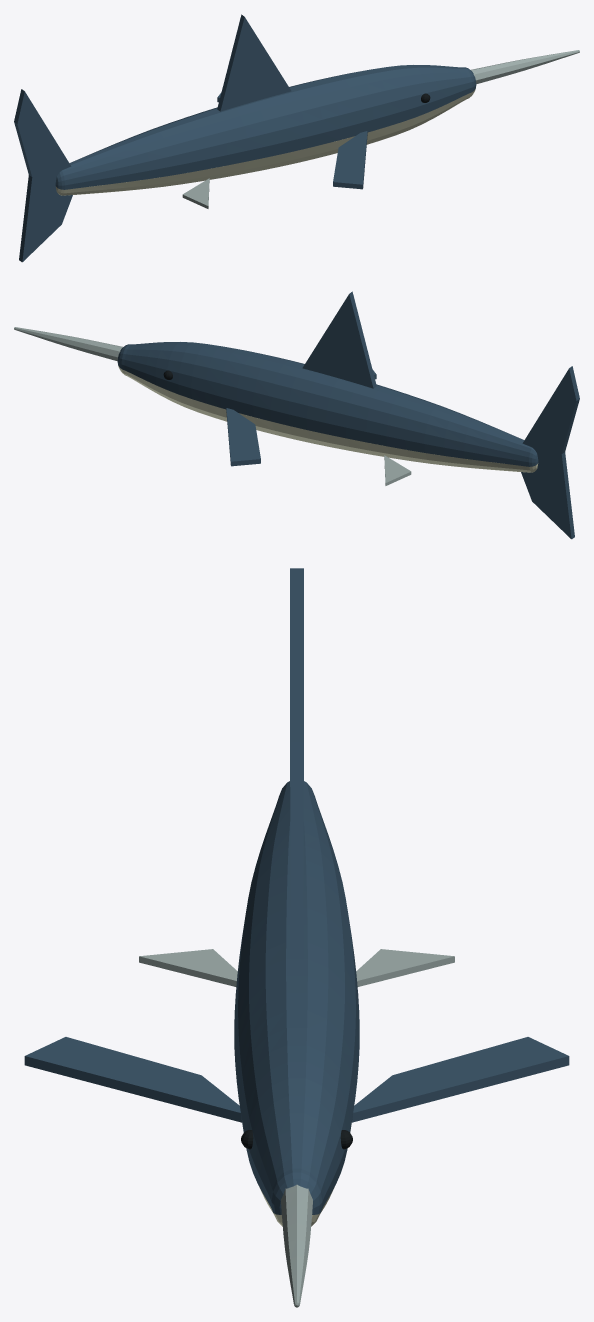
The model's file is blue-marlin.dae.
The picture shows the model from 3 angles, top to bottom: view 1: azimuth 30°, elevation 25°; view 2: azimuth 150°, elevation 25°; view 3: azimuth 270°, elevation 25°; orthographic projection. The views are drawn at different scales.
Parts seen in each view (by area): view 1: part3-node, part2-node, part0-node; view 2: part3-node, part2-node, part0-node; view 3: part3-node, part0-node.
Boxes of the visible parts, x1=… form: part3-node: x1=14, y1=14, x2=476, y2=262; part2-node: x1=55, y1=88, x2=475, y2=195; part0-node: x1=182, y1=50, x2=579, y2=208; part3-node: x1=117, y1=291, x2=579, y2=539; part2-node: x1=118, y1=365, x2=538, y2=472; part0-node: x1=14, y1=327, x2=411, y2=485; part3-node: x1=24, y1=568, x2=569, y2=1214; part0-node: x1=139, y1=949, x2=454, y2=1307.
Bounding box in the file's own units: 3.4 × 1.42 × 1.1.
